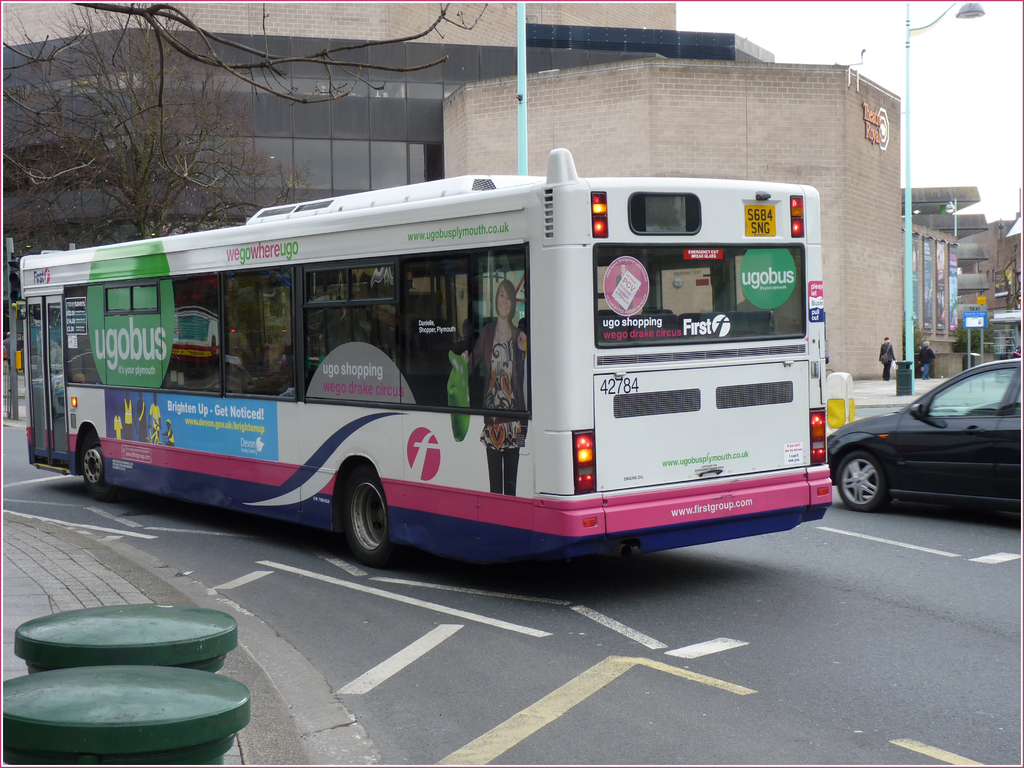Car: (828, 354, 1023, 510)
